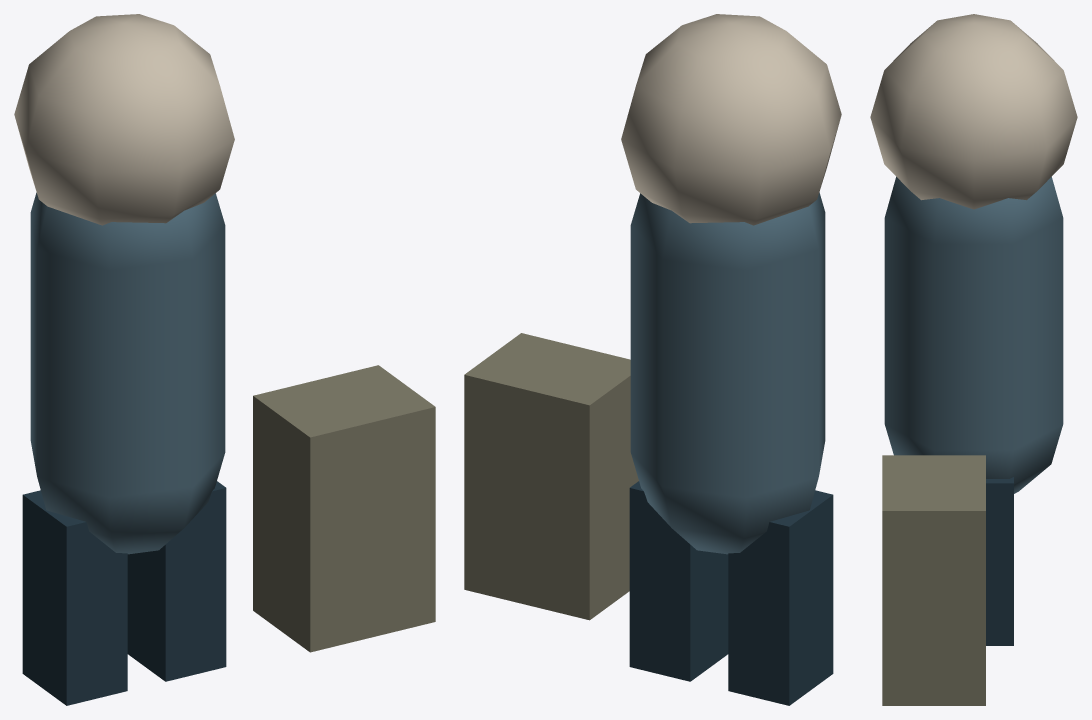
Rendered from passengers-1.glb.
The picture shows the model from 3 angles, left to right: view 1: azimuth 30°, elevation 25°; view 2: azimuth 150°, elevation 25°; view 3: azimuth 270°, elevation 25°; orthographic projection. The views are drawn at different scales.
Parts seen in each view (by area): view 1: passengers-1; view 2: passengers-1; view 3: passengers-1.
Part boxes in pixels (box(x1,y1,x2,y2)): passengers-1: box(14, 14, 435, 705); passengers-1: box(464, 14, 841, 705); passengers-1: box(870, 14, 1077, 705).
Size of the model in its own units: 0.945 by 1.62 by 0.52.
